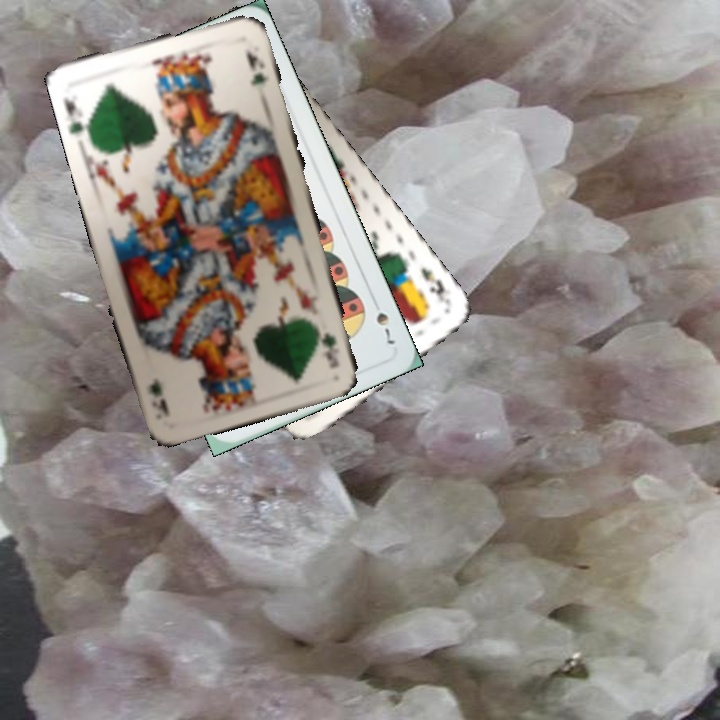EK: (416, 263, 453, 307)
GK: (312, 317, 342, 371), (59, 93, 93, 140)
S7: (368, 293, 398, 348)
